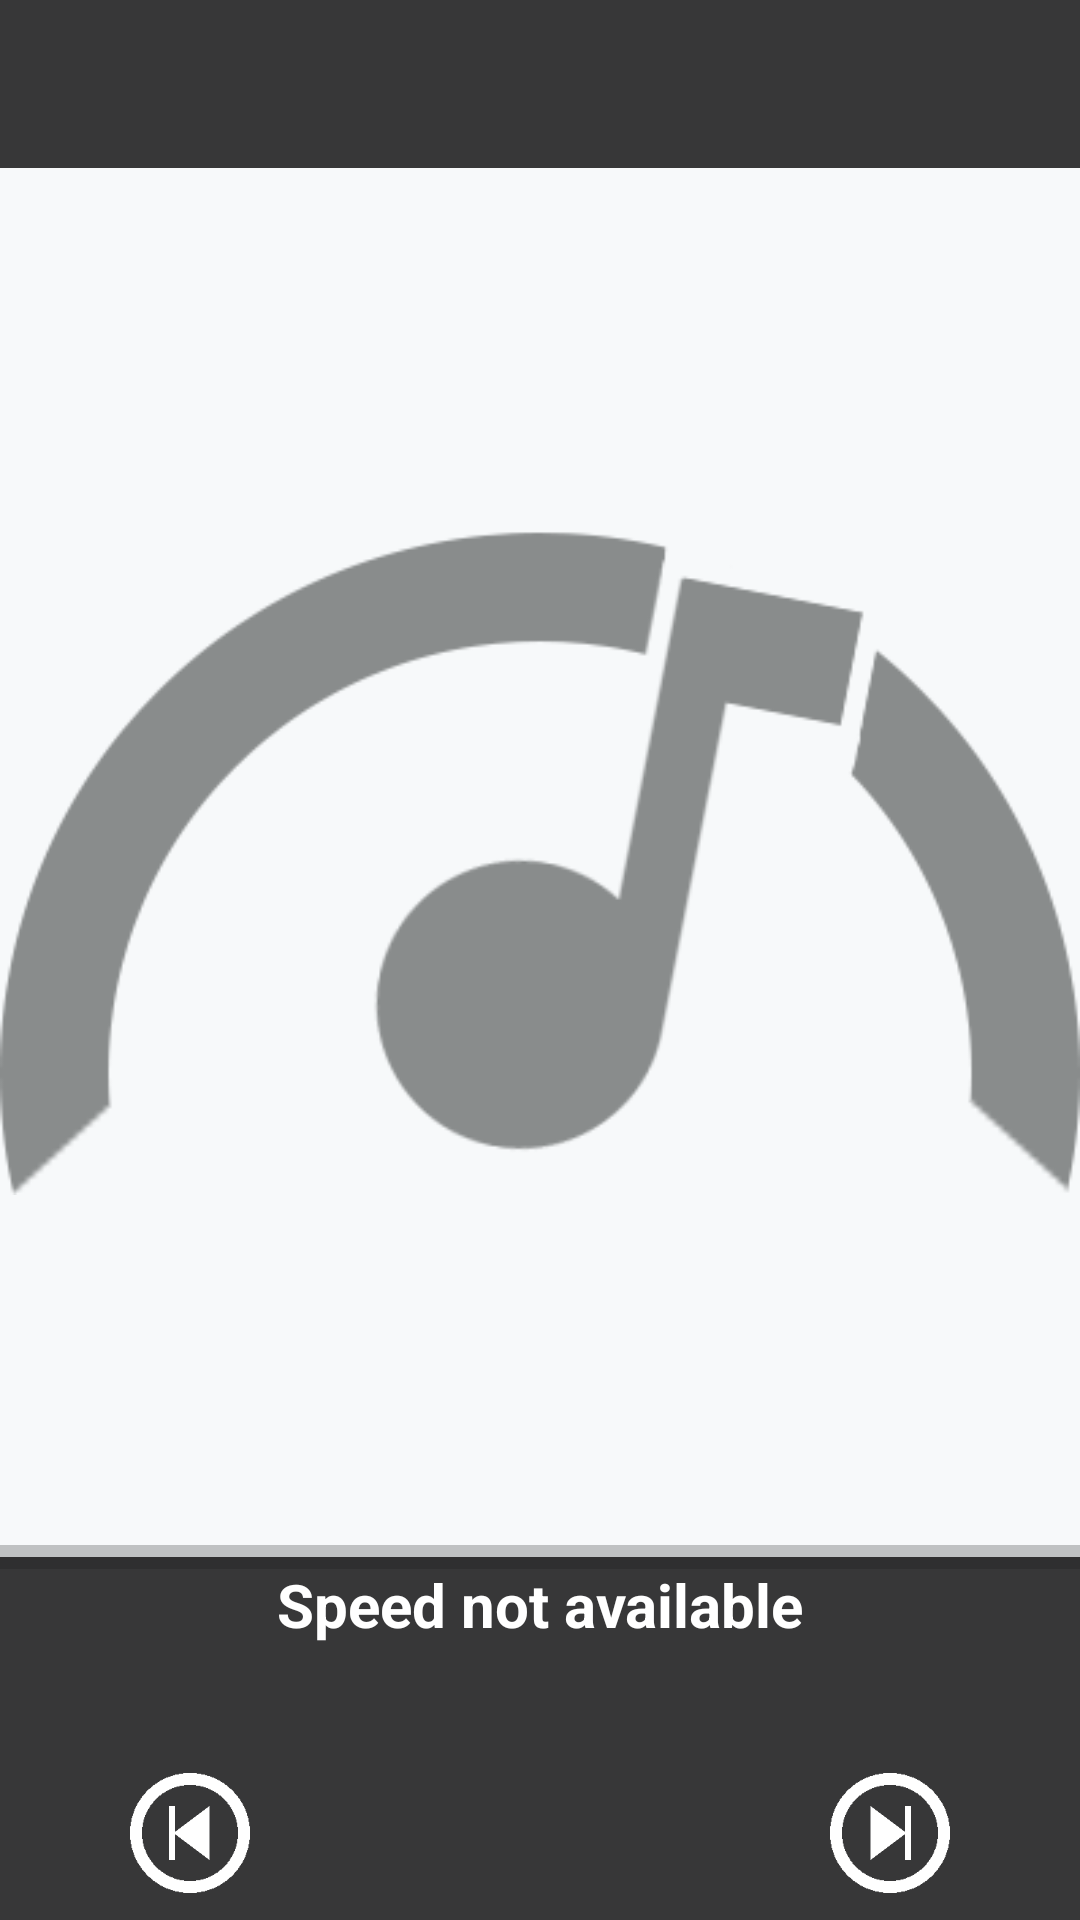

Point at icon controls on the screen. Image size 1080px x 1920px, points as point (x, y).
Next: point (890, 1833)
Previous: point (190, 1833)
